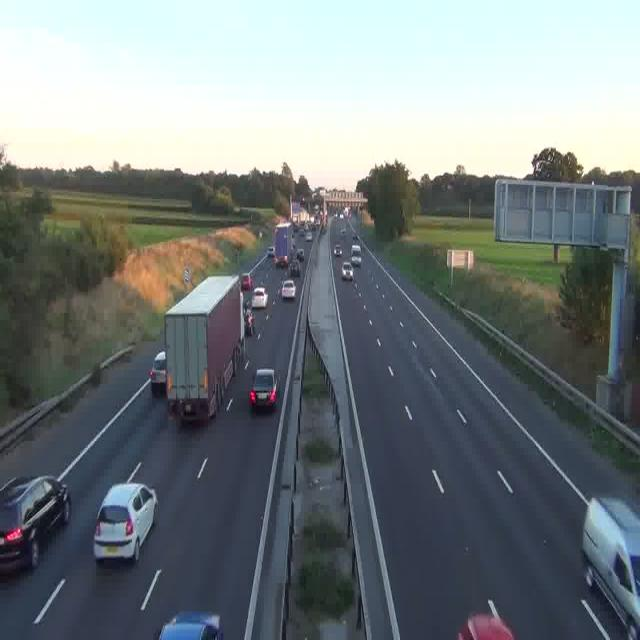car: (581, 496, 640, 640), (0, 475, 70, 573), (93, 482, 156, 562), (158, 613, 222, 640), (458, 615, 516, 640), (250, 368, 278, 412), (150, 352, 168, 393), (252, 287, 268, 309), (280, 279, 296, 301), (342, 261, 354, 280), (241, 273, 253, 291), (351, 249, 361, 267), (290, 260, 301, 276), (296, 248, 304, 261), (333, 244, 341, 257), (352, 232, 360, 243)
truck: (163, 278, 249, 420), (272, 220, 290, 266)
